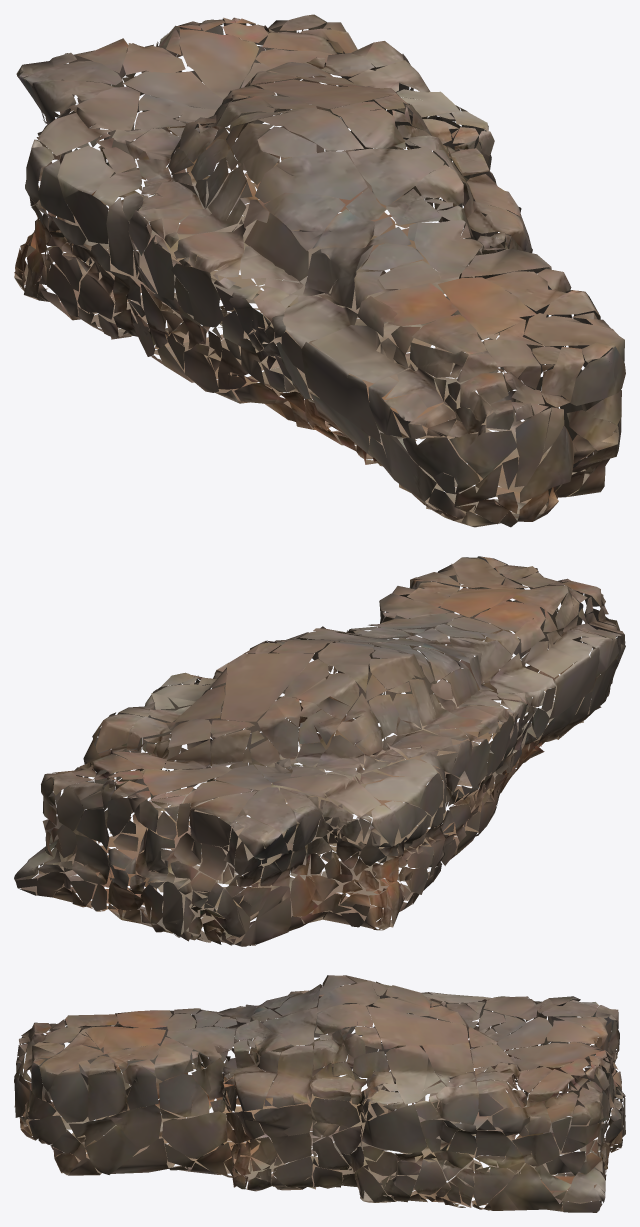
File: plateau.glb
3 renders of one model, top to bottom at view 1: azimuth 30°, elevation 25°; view 2: azimuth 150°, elevation 25°; view 3: azimuth 270°, elevation 25°, orthographic. The views are drawn at different scales.
Visible parts, largest first — view 1: Mesh_0; view 2: Mesh_0; view 3: Mesh_0.
Part boxes in pixels (bbox=[...]): Mesh_0: bbox=[14, 14, 625, 527]; Mesh_0: bbox=[14, 556, 625, 946]; Mesh_0: bbox=[14, 975, 625, 1212].
Bounding box in the file's own units: 1.51 × 0.8503 × 3.
1 material, 1 textured.
